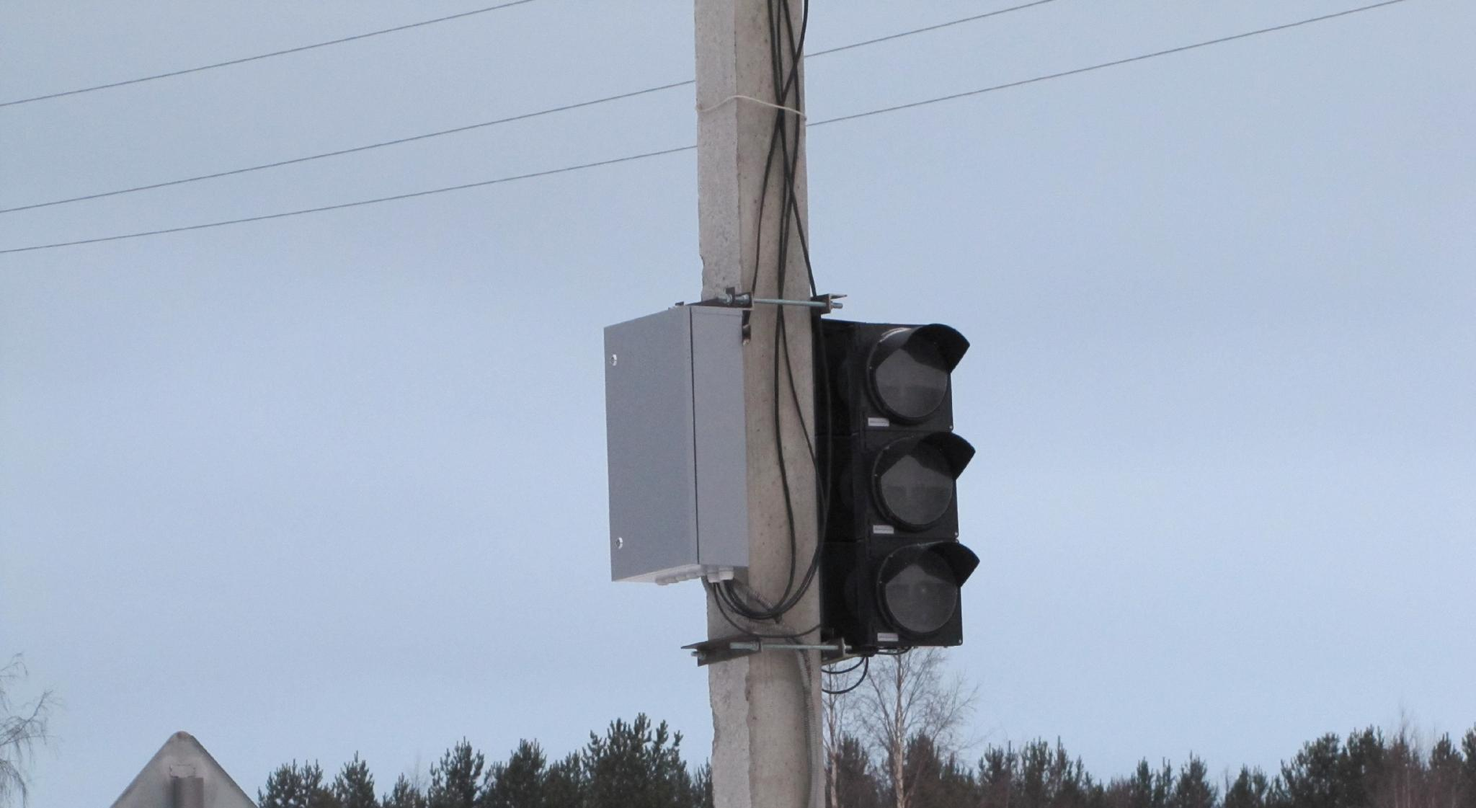off traffic light: (816, 316, 979, 657)
